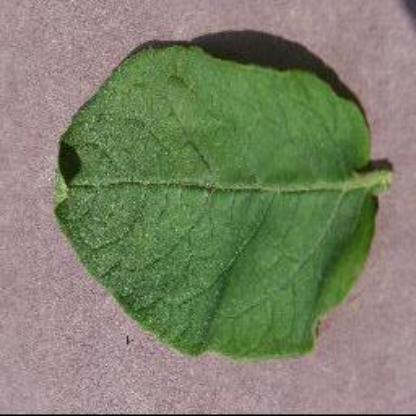Healthy-plant: (52, 40, 395, 367)
